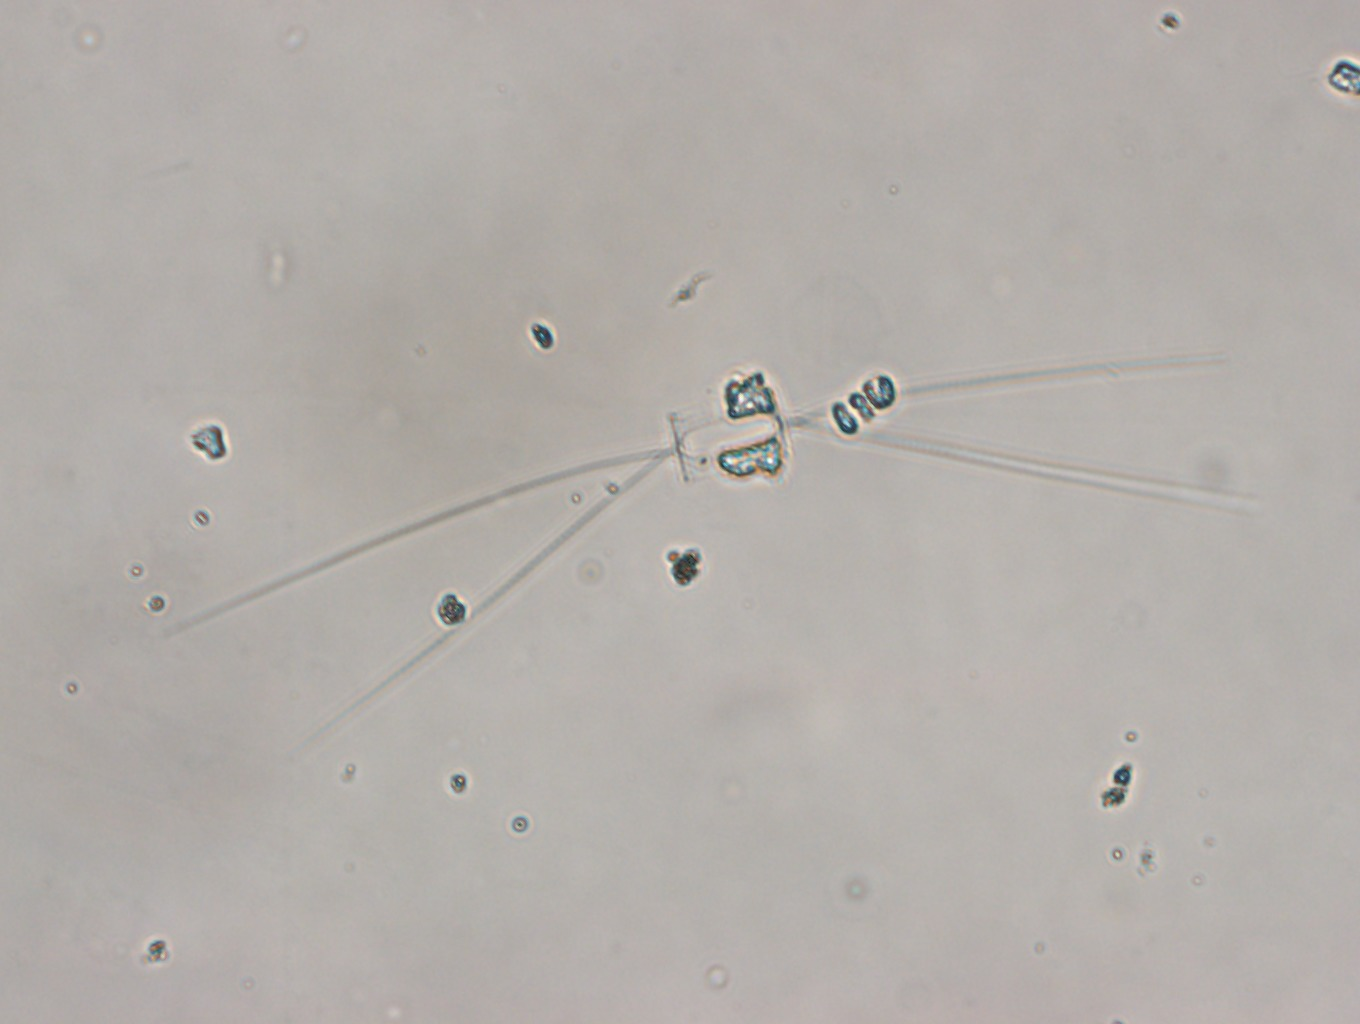chaetoceros: (210, 343, 1261, 756)
